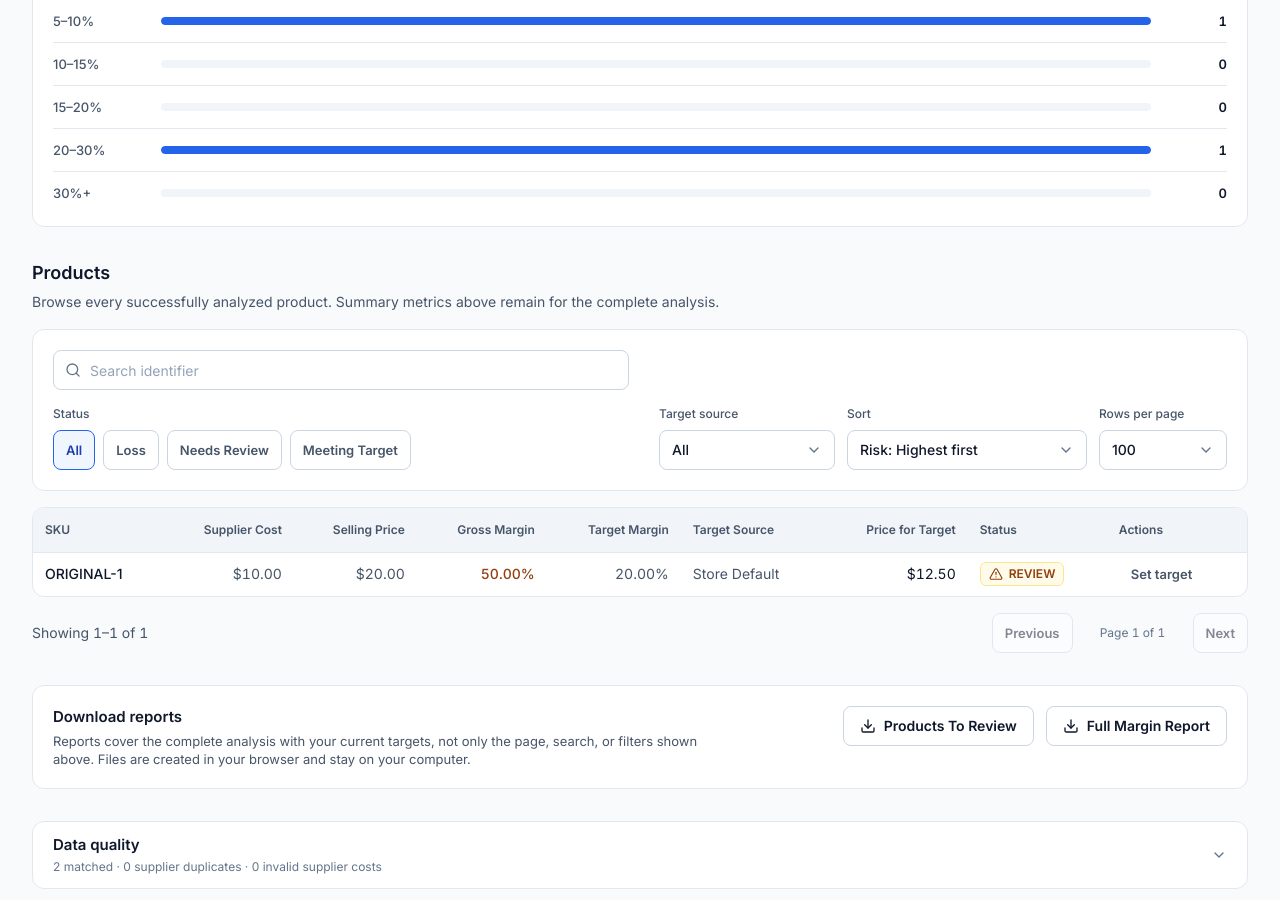
Test case: anonymous results › does not let a pre-override query overwrite the post-override refresh
(page scrolled)
Expected: the text "ORIGINAL-1" is shown, [33,552,163,596]
Click the button "Needs Review" at (224, 450), box [167,430,282,470]
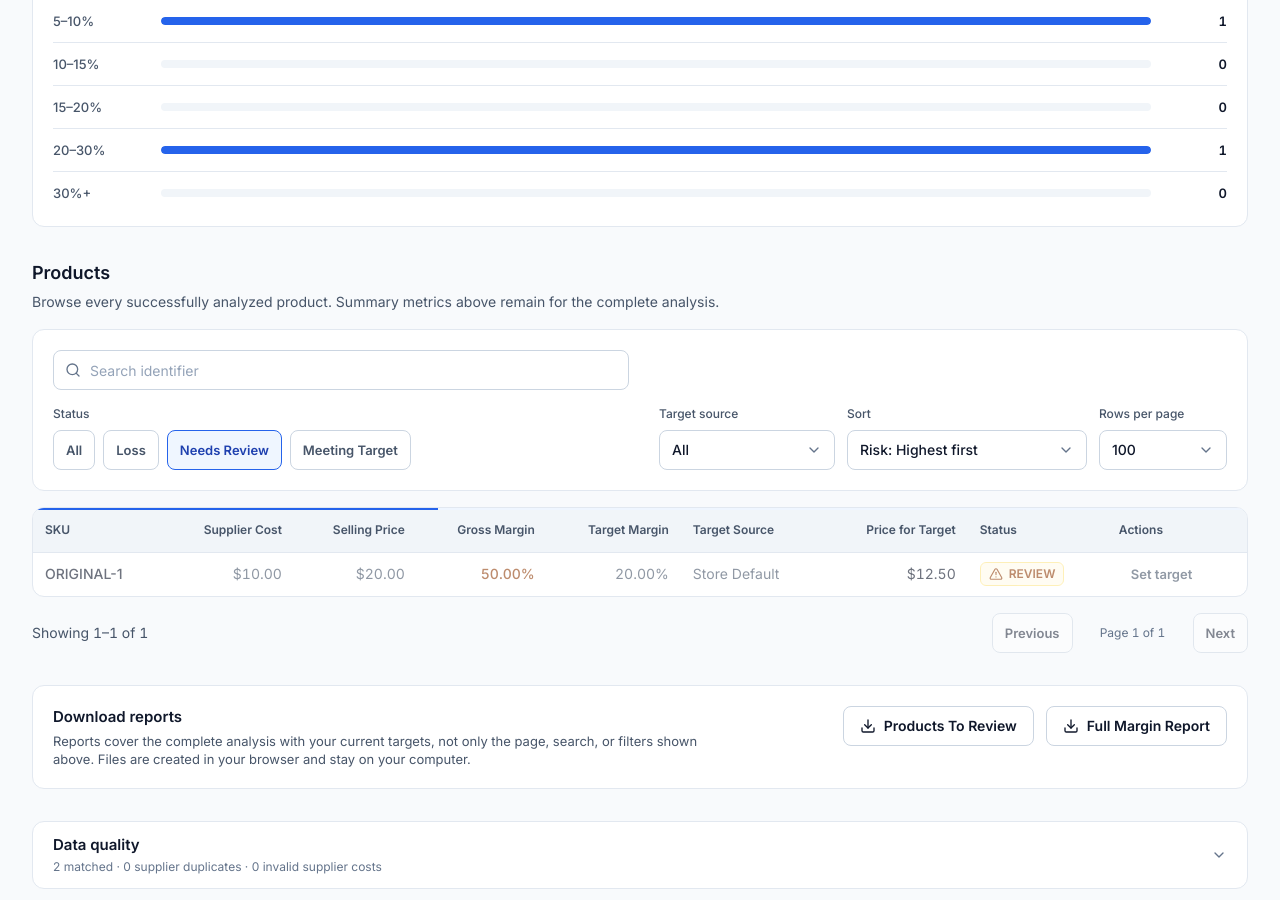
Click the button with aria-label "Set target for ORIGINAL-1" at (1162, 574), box [1119,554,1204,594]
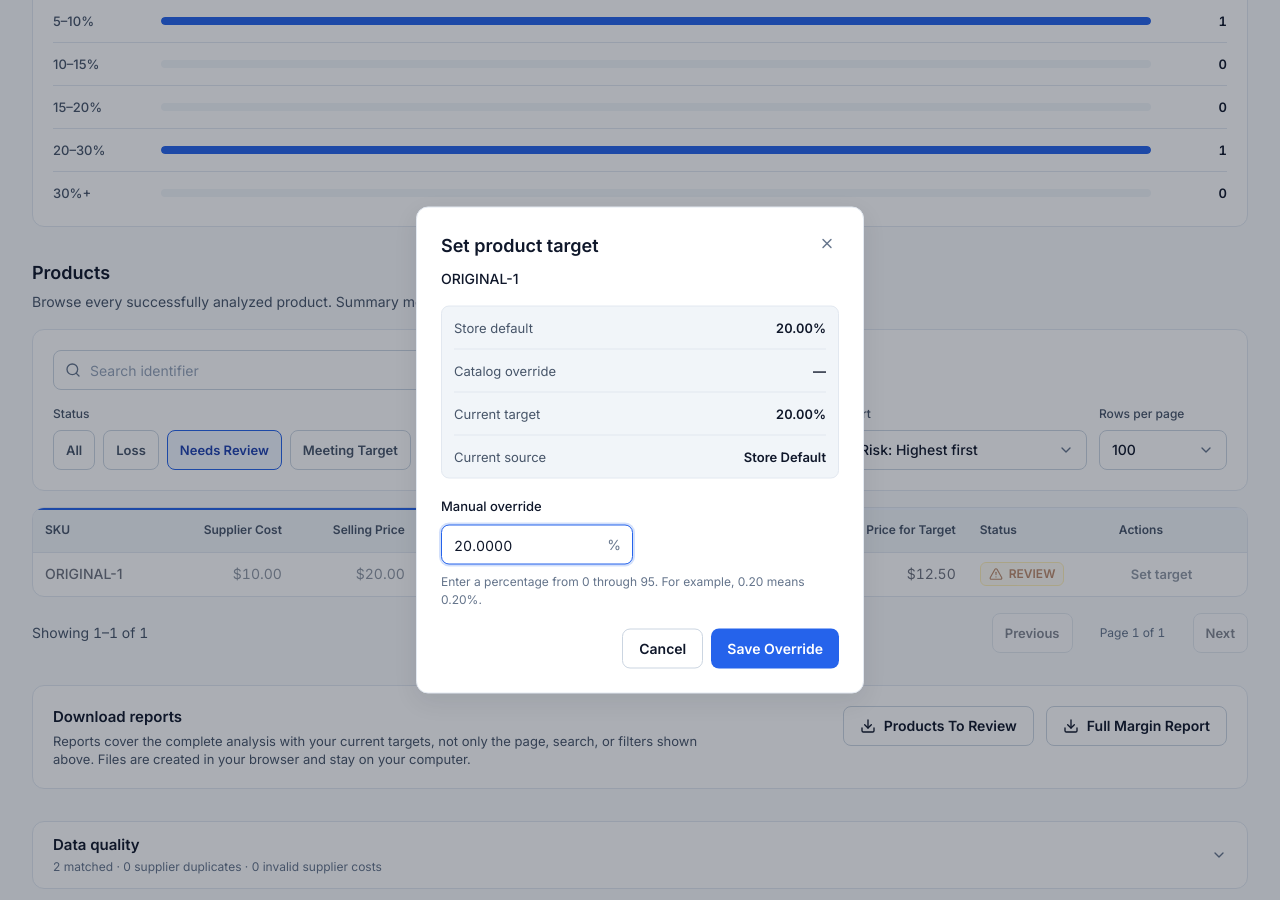
Replace the text in the field labelled "Manual override" with "35.5" at (537, 544), box [441,524,633,564]
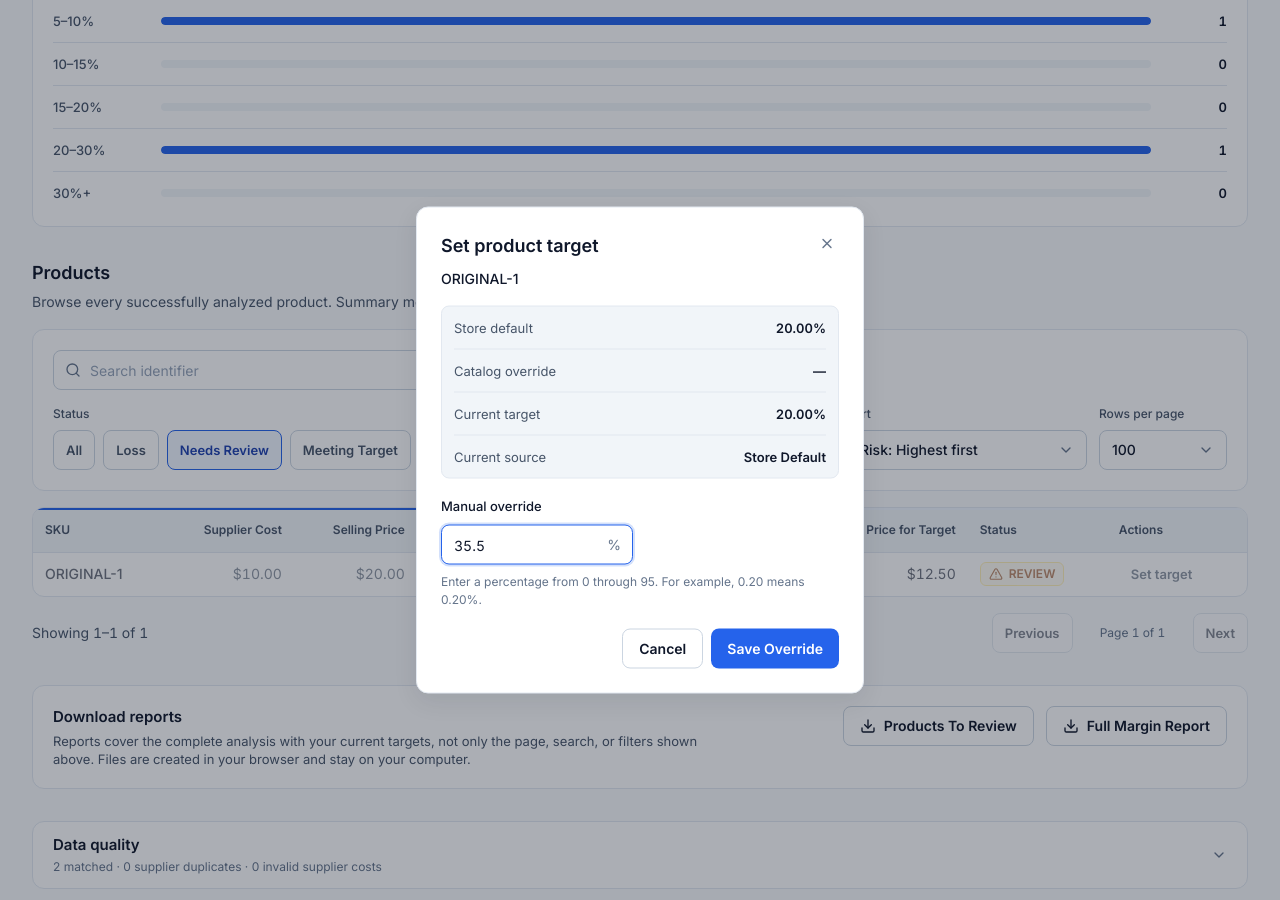
Click the button "Save Override" at (775, 648), box [711,628,839,668]
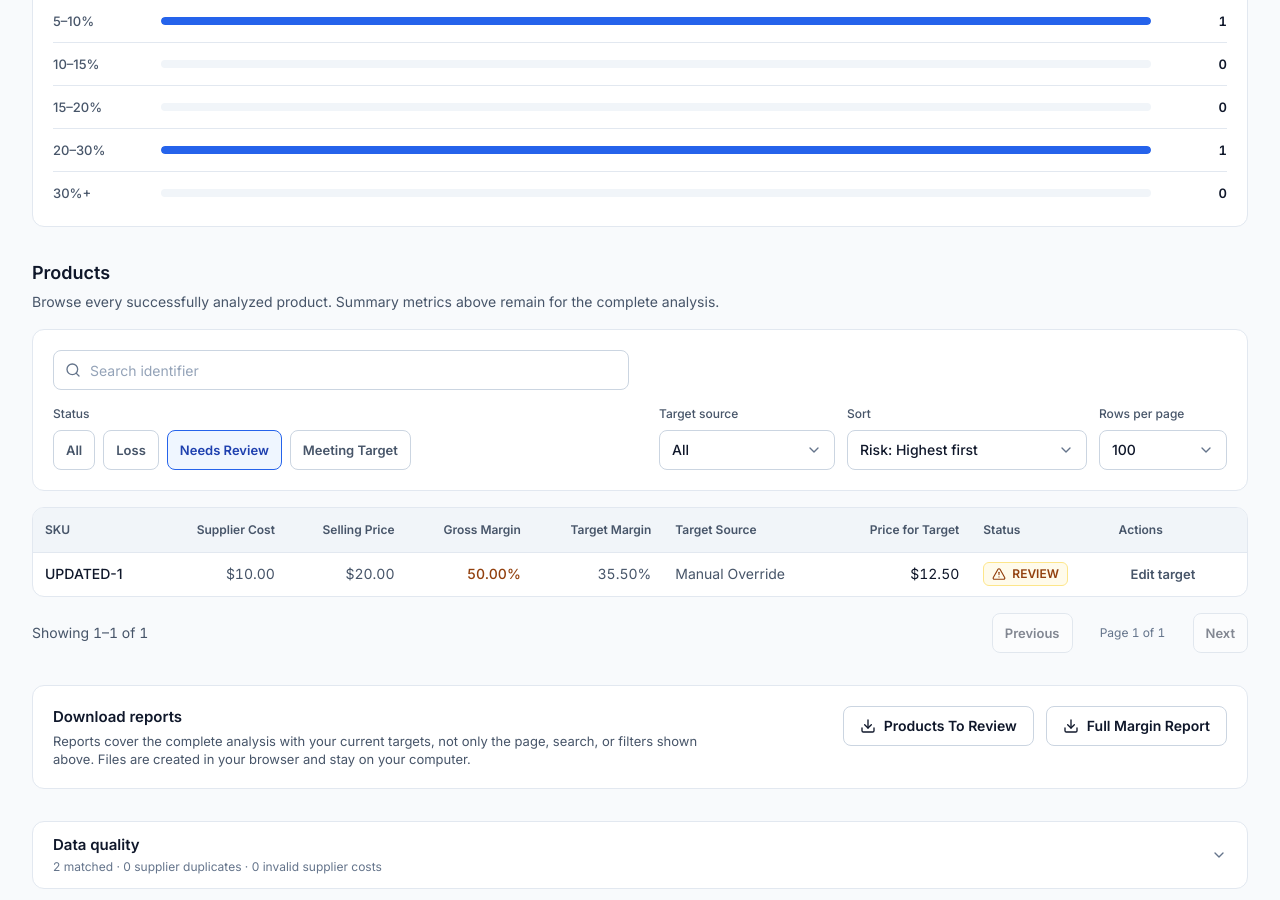
Result: the text "Manual Override" is shown at [663,552,830,596]
Result: the text "UPDATED-1" is shown at [33,552,160,596]
